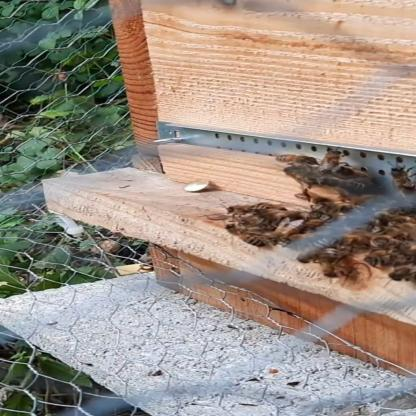bee: (199, 144, 416, 287)
